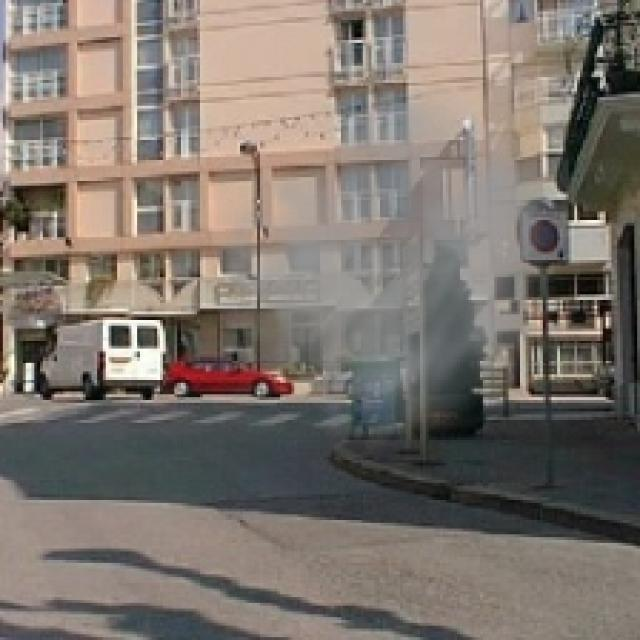smoke: (180, 68, 569, 466)
